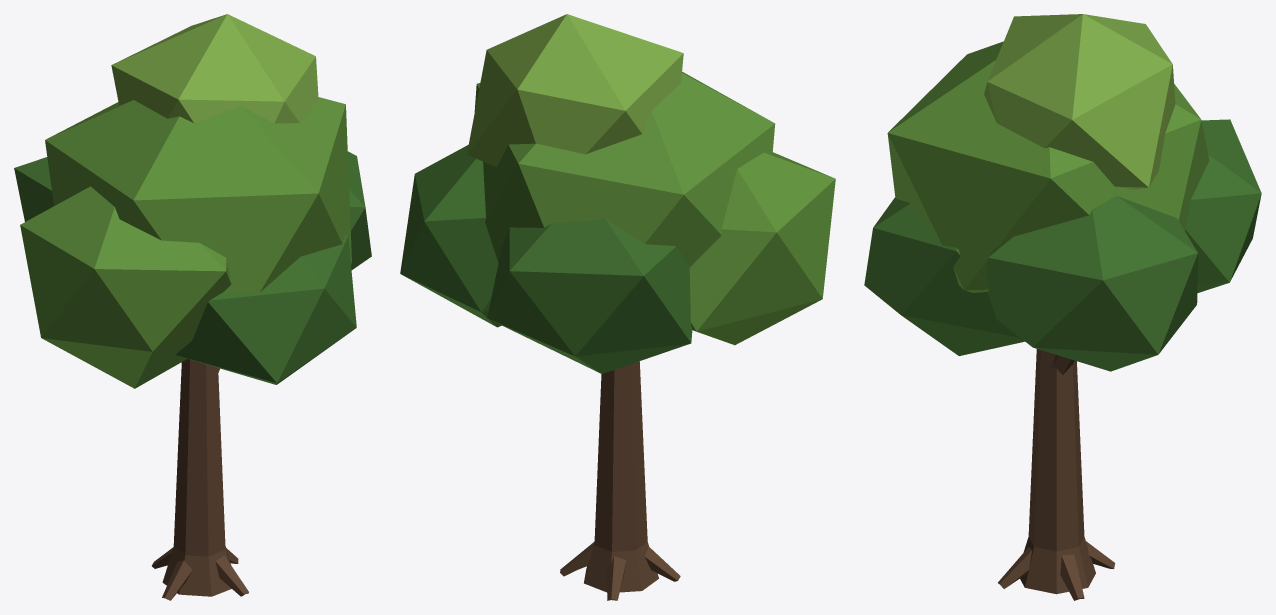
File: town_tree_a.glb
3 views of the same model, side by side, from view 1: azimuth 30°, elevation 25°; view 2: azimuth 150°, elevation 25°; view 3: azimuth 270°, elevation 25° (orthographic). The views are drawn at different scales.
Parts seen in each view (by area): view 1: town_tree_a; view 2: town_tree_a; view 3: town_tree_a.
Part boxes in pixels (left/top/right/bottom): town_tree_a: left=14, top=14, right=371, bottom=600; town_tree_a: left=400, top=14, right=835, bottom=600; town_tree_a: left=864, top=14, right=1261, bottom=600.
Size of the model in its own units: 3.67 by 5.39 by 3.33.
